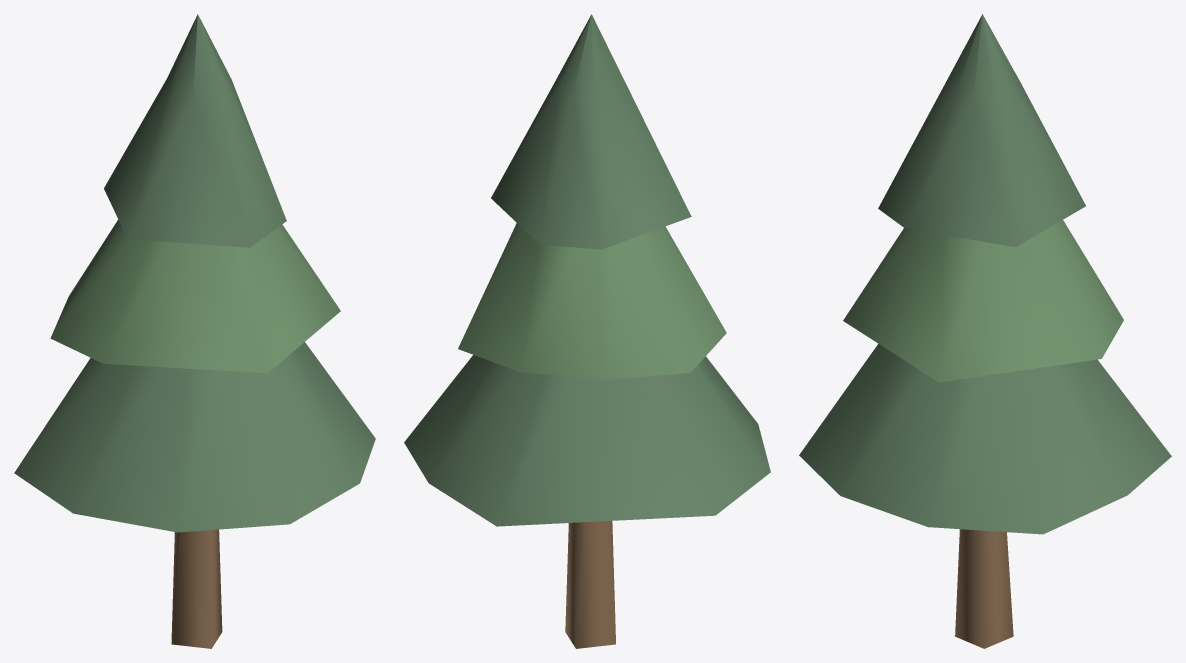
File: pine.lod1.glb
The picture shows the model from 3 angles, left to right: view 1: azimuth 30°, elevation 25°; view 2: azimuth 150°, elevation 25°; view 3: azimuth 270°, elevation 25°; orthographic projection.
Visible parts, largest first — view 1: mesh; view 2: mesh; view 3: mesh.
Boxes of the visible parts, bbox=[...] form: mesh: bbox=[14, 14, 375, 648]; mesh: bbox=[404, 14, 770, 648]; mesh: bbox=[799, 14, 1171, 648].
Size of the model in its own units: 1.96 by 3.75 by 2.04.
